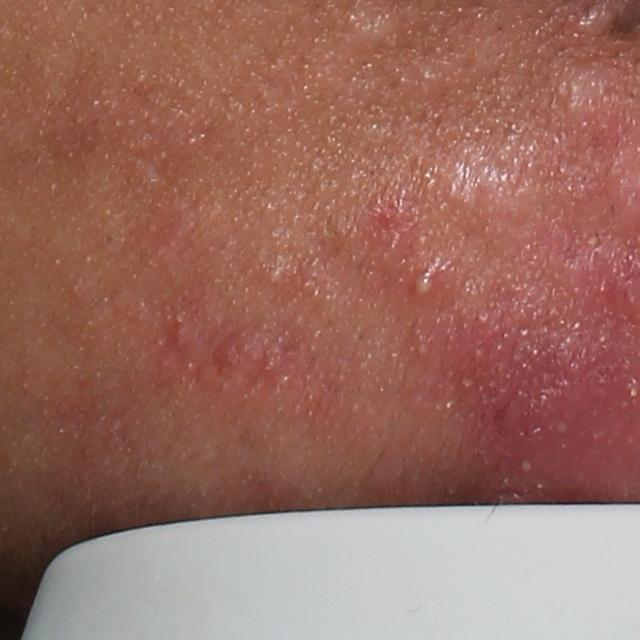hypertrophic_scar: (415, 139, 552, 256), (546, 66, 607, 129), (575, 0, 621, 39)
papule: (364, 198, 412, 242), (210, 339, 240, 375)
pustule: (407, 264, 441, 300)
